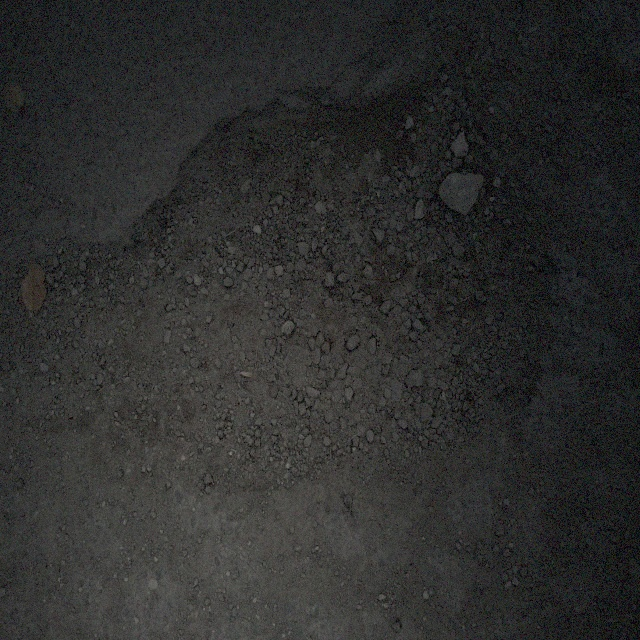pothole: (123, 56, 567, 504)
